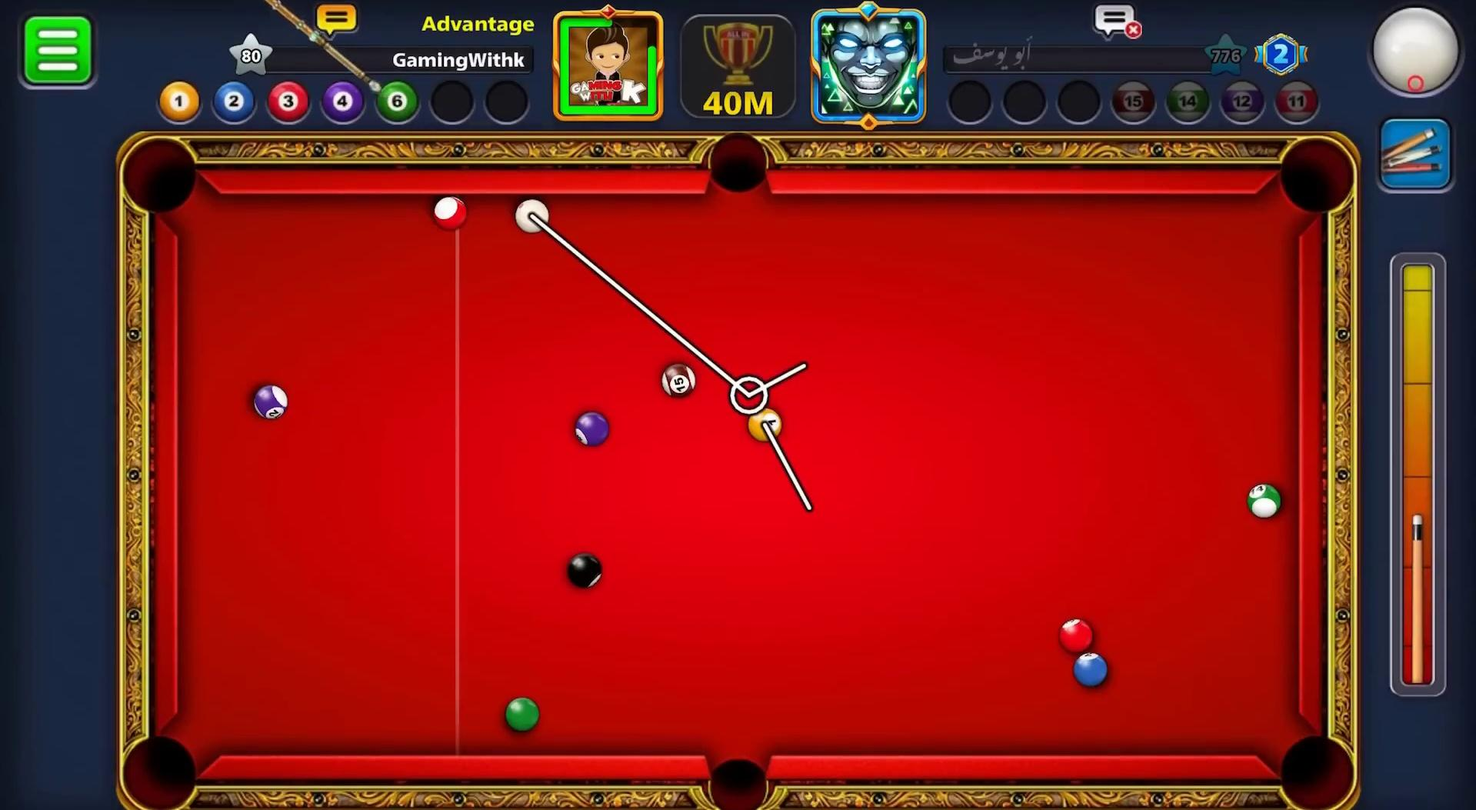Ball: (245, 375, 295, 426), (558, 548, 608, 592), (567, 407, 614, 450), (501, 692, 544, 737), (424, 191, 471, 232), (1071, 648, 1111, 691), (1247, 479, 1284, 524), (1055, 615, 1099, 652), (657, 360, 696, 398), (748, 403, 784, 443)
Force: (1392, 255, 1449, 695)
Guideline: (526, 208, 825, 520)
Hole: (101, 121, 219, 235), (1266, 122, 1364, 228), (1256, 721, 1373, 809), (695, 125, 778, 215), (691, 739, 783, 809), (122, 733, 198, 808)
Play_Area: (182, 192, 1294, 753)
Spin: (1362, 0, 1475, 109)
White: (507, 194, 553, 235)
